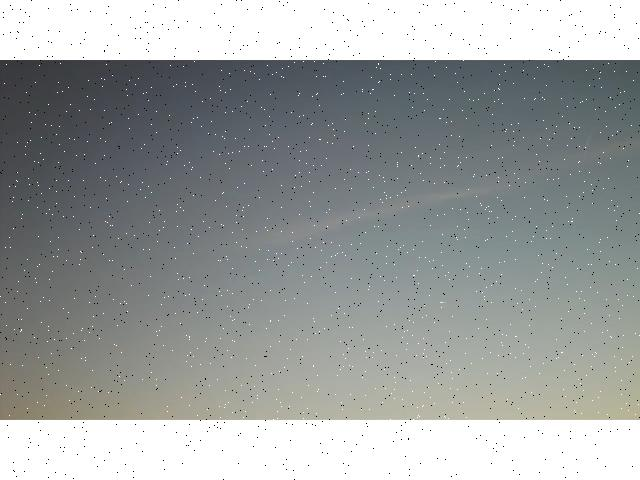Anti-Drone: (436, 296, 452, 310)
